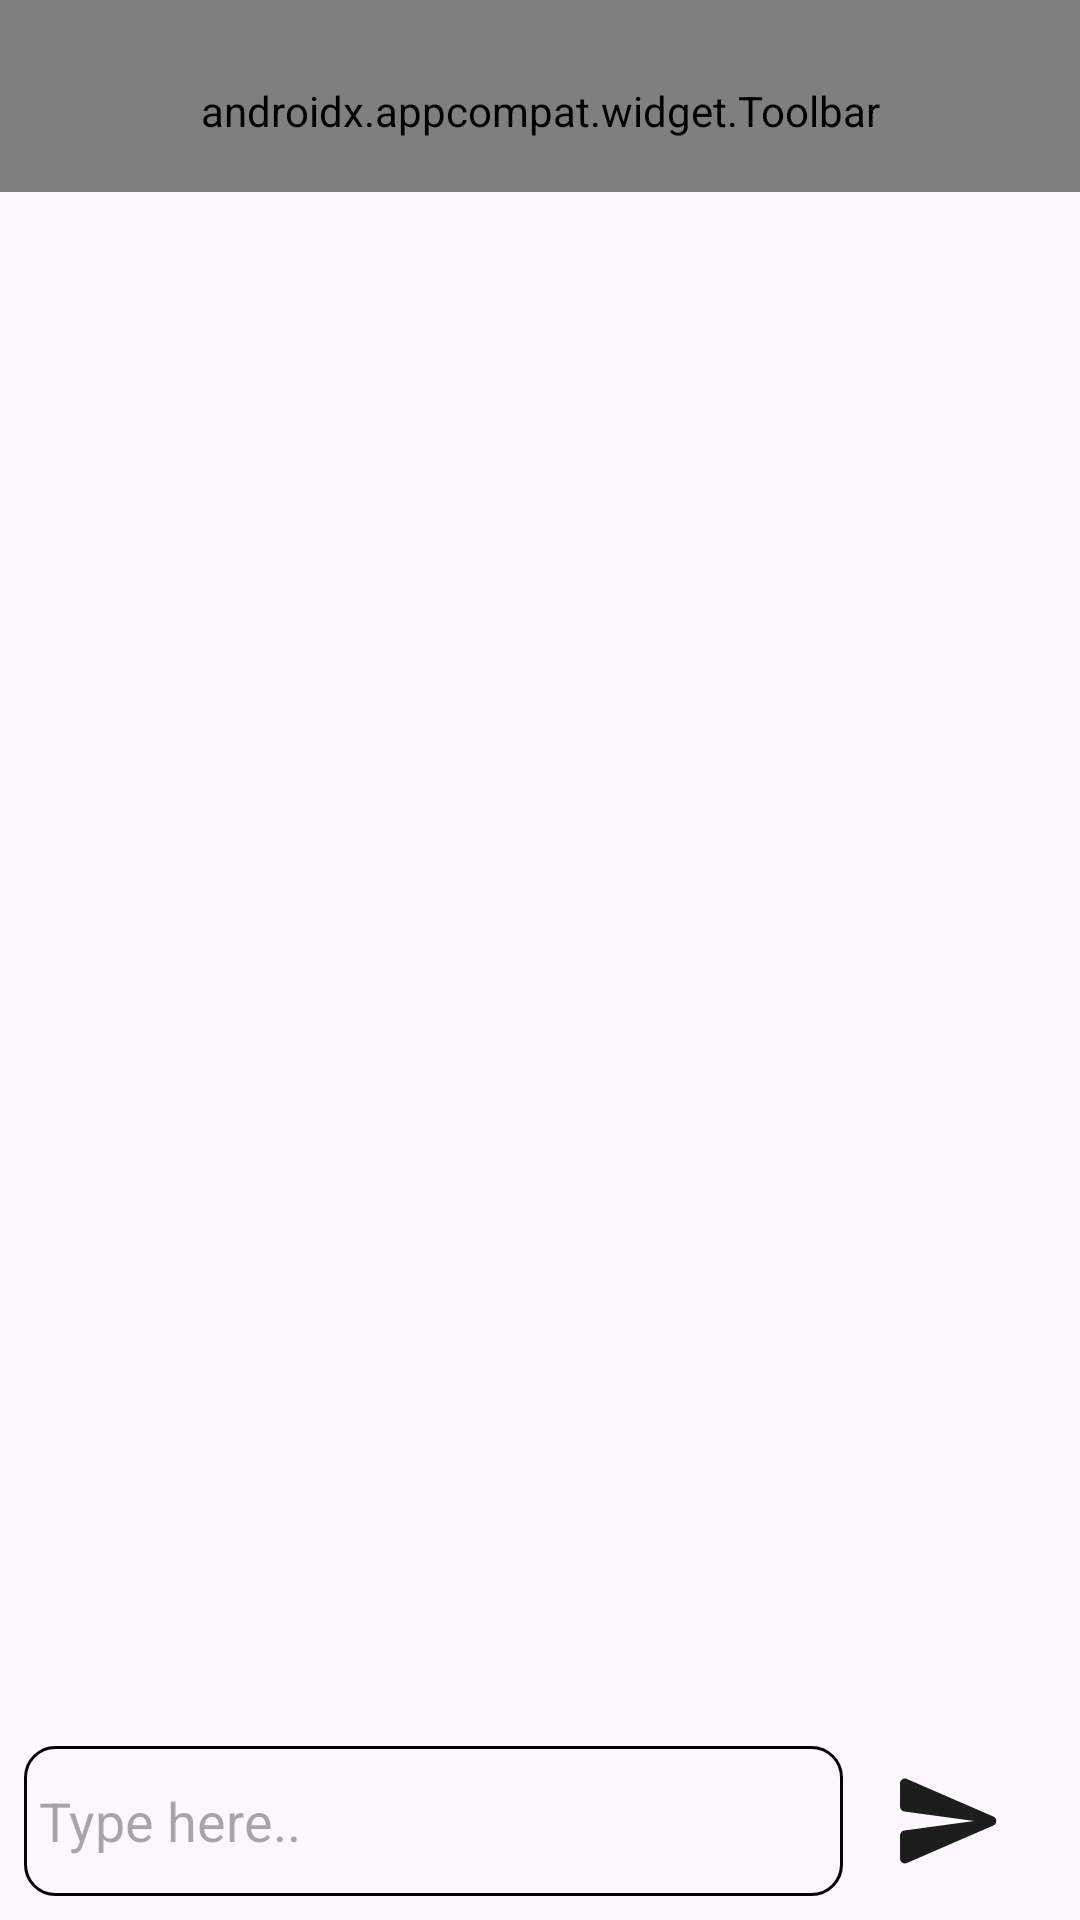

Named icons in this screenshot (1080*1920) and their bounding boxes, bbox=(x1, y1, x2, y2):
send: bbox=(900, 1778, 997, 1864)
